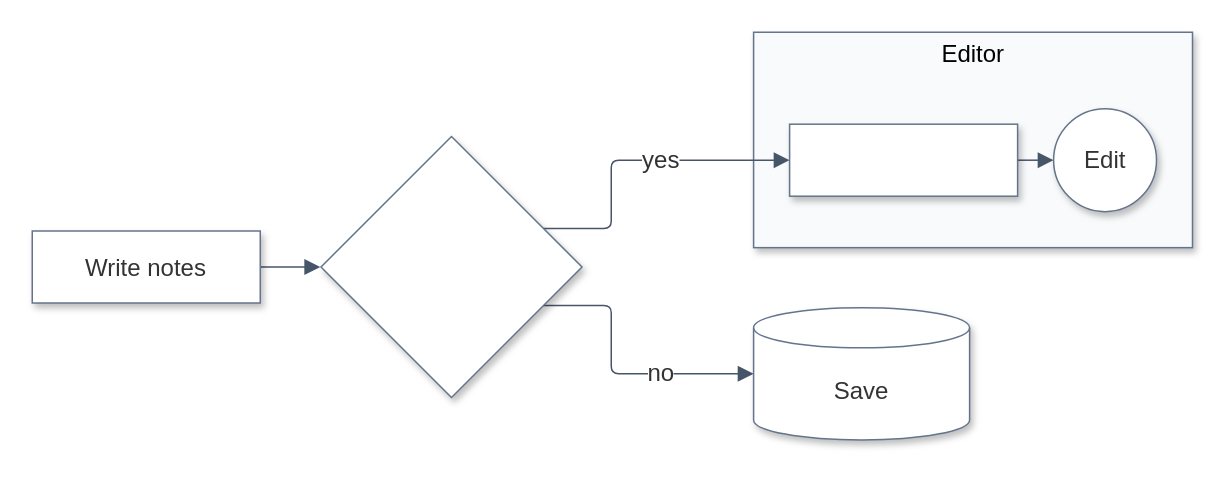
Image size: 1229x477. Some labels were removed from this diagram. The shapes that lost their labels are listed below. From the top down, each one's centre as x and y in pixels, then its label:
pixel 904 162: Open in draw.io
pixel 452 268: Diagram?
